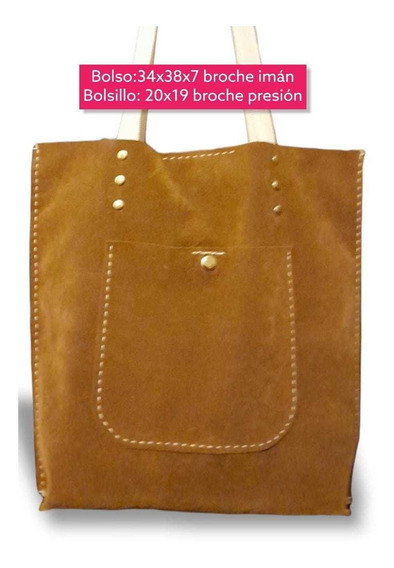cartera: (27, 24, 363, 521)
